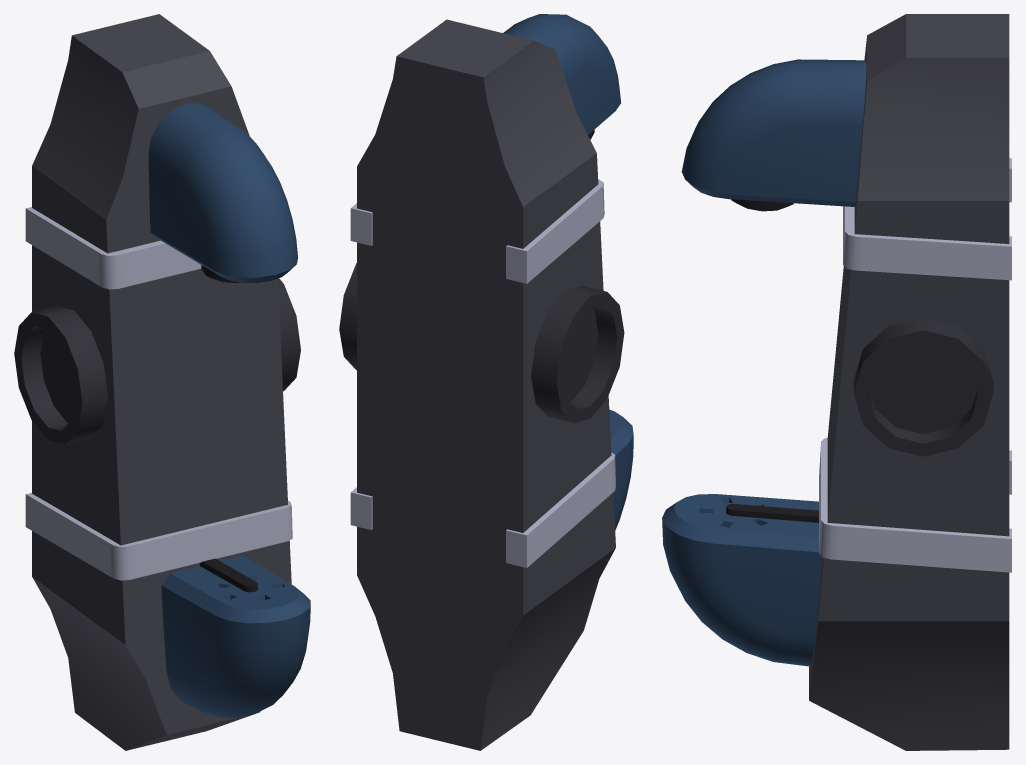
The model's file is Misc_BatteryCharger_X1_A.fbx.
3 views of the same model, side by side, from view 1: azimuth 30°, elevation 25°; view 2: azimuth 150°, elevation 25°; view 3: azimuth 270°, elevation 25° (orthographic). The views are drawn at different scales.
Parts seen in each view (by area): view 1: Misc_BatteryCharger_X1_A.001; view 2: Misc_BatteryCharger_X1_A.001; view 3: Misc_BatteryCharger_X1_A.001.
Boxes of the visible parts, x1,y1,x2,y2 form: Misc_BatteryCharger_X1_A.001: [14, 14, 310, 750]; Misc_BatteryCharger_X1_A.001: [339, 14, 633, 750]; Misc_BatteryCharger_X1_A.001: [662, 14, 1011, 750].
Size of the model in its own units: 0.1041 by 0.3091 by 0.141.
